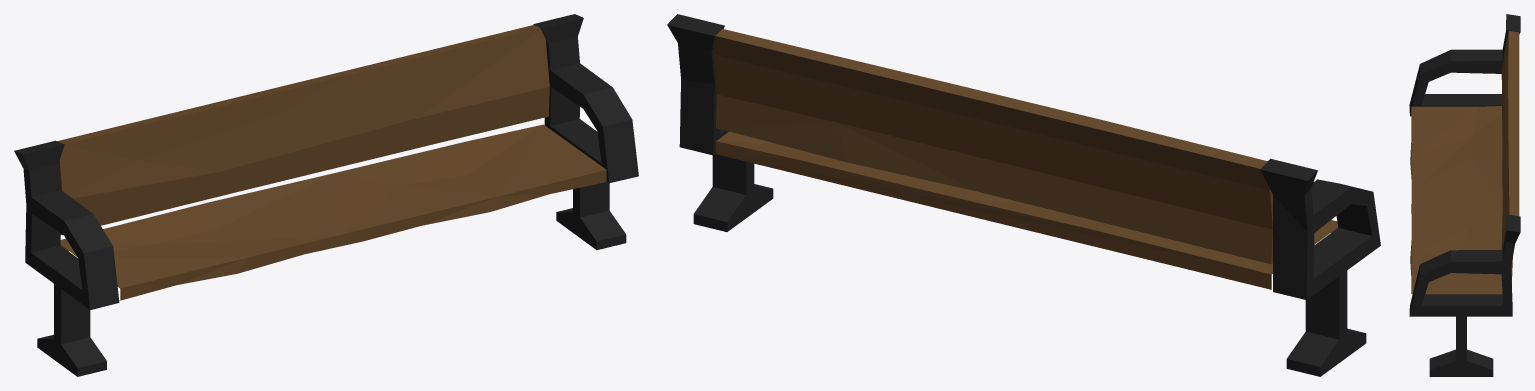
The model's file is Bench.fbx.
3 renders of one model, left to right at view 1: azimuth 30°, elevation 25°; view 2: azimuth 150°, elevation 25°; view 3: azimuth 270°, elevation 25°, orthographic. The views are drawn at different scales.
Visible parts, largest first — view 1: Bench; view 2: Bench; view 3: Bench.
Boxes of the visible parts, box(x1,y1,x2,y2) form: Bench: box(14, 14, 638, 376); Bench: box(667, 14, 1380, 376); Bench: box(1409, 14, 1520, 376).
Bounding box in the file's own units: 3.78 × 1.21 × 0.8201.
